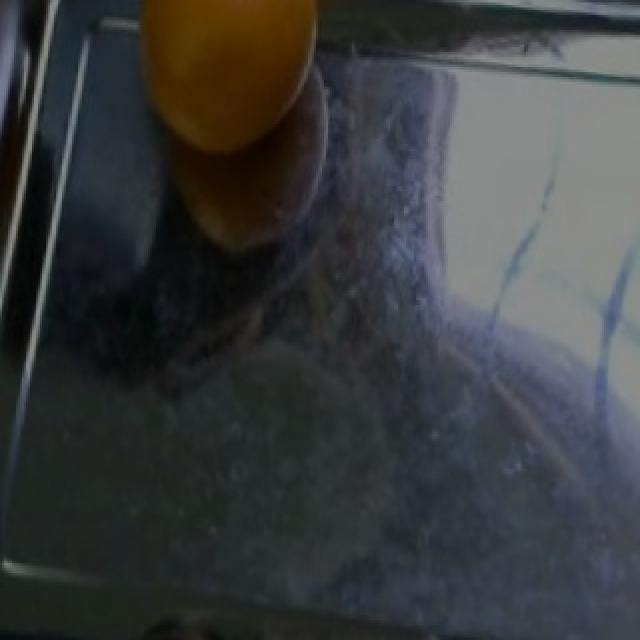Fruit: (118, 3, 340, 171)
